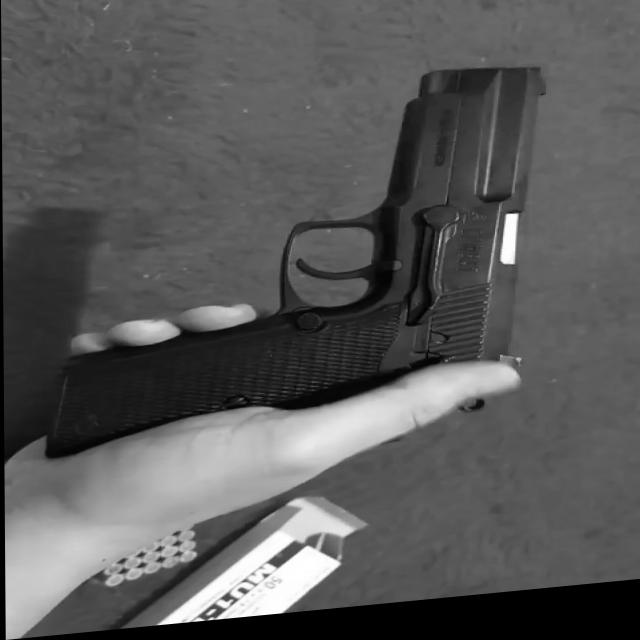handgun: (47, 62, 549, 477)
